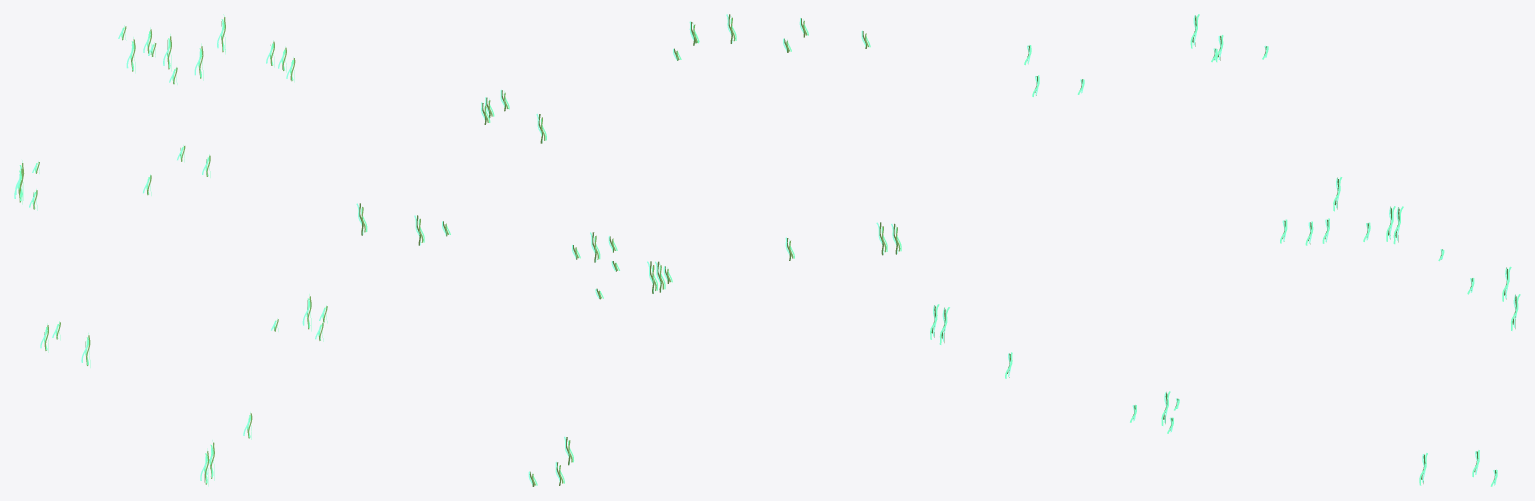
File: kelp_00.glb
3 renders of one model, left to right at view 1: azimuth 30°, elevation 25°; view 2: azimuth 150°, elevation 25°; view 3: azimuth 270°, elevation 25°, orthographic. The views are drawn at different scales.
Visible parts, largest first — view 1: kelp_00; view 2: kelp_00; view 3: kelp_00.
Part boxes in pixels (bbox=[...]): kelp_00: bbox=[14, 14, 327, 486]; kelp_00: bbox=[356, 14, 901, 486]; kelp_00: bbox=[930, 14, 1520, 486].
Size of the model in its own units: 47.81 by 60.91 by 74.2.
